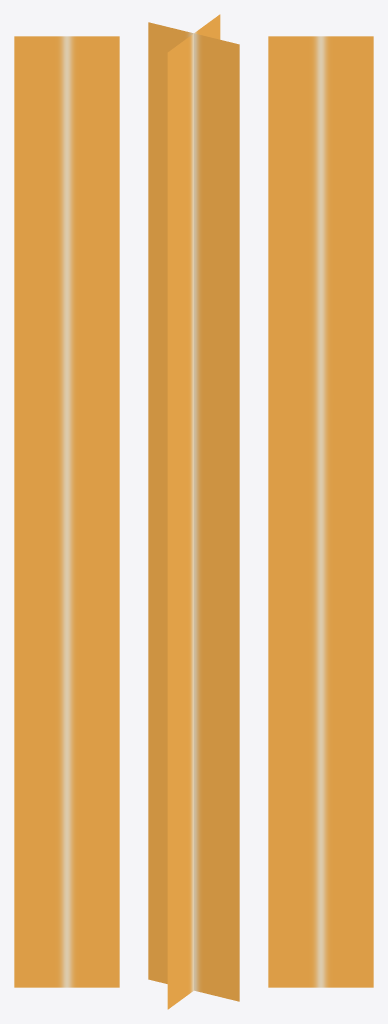
File: citadel_fx_string.glb
The picture shows the model from 3 angles, left to right: view 1: azimuth 90°, elevation 25°; view 2: azimuth 150°, elevation 25°; view 3: azimuth 270°, elevation 25°; orthographic projection.
Visible parts, largest first — view 1: fx_string_harp_string_cards; view 2: fx_string_harp_string_cards; view 3: fx_string_harp_string_cards.
Part boxes in pixels (x1,y1,x2,y2): fx_string_harp_string_cards: [14, 36, 119, 987]; fx_string_harp_string_cards: [148, 14, 239, 1009]; fx_string_harp_string_cards: [268, 36, 373, 987].
Bounding box in the file's own units: 0.1 × 1 × 0.1.
Materials: 1 (1 with a texture image).
